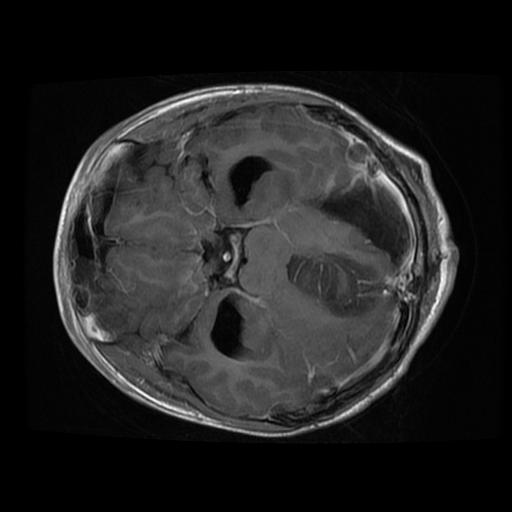glioma: (285, 252, 381, 320)
